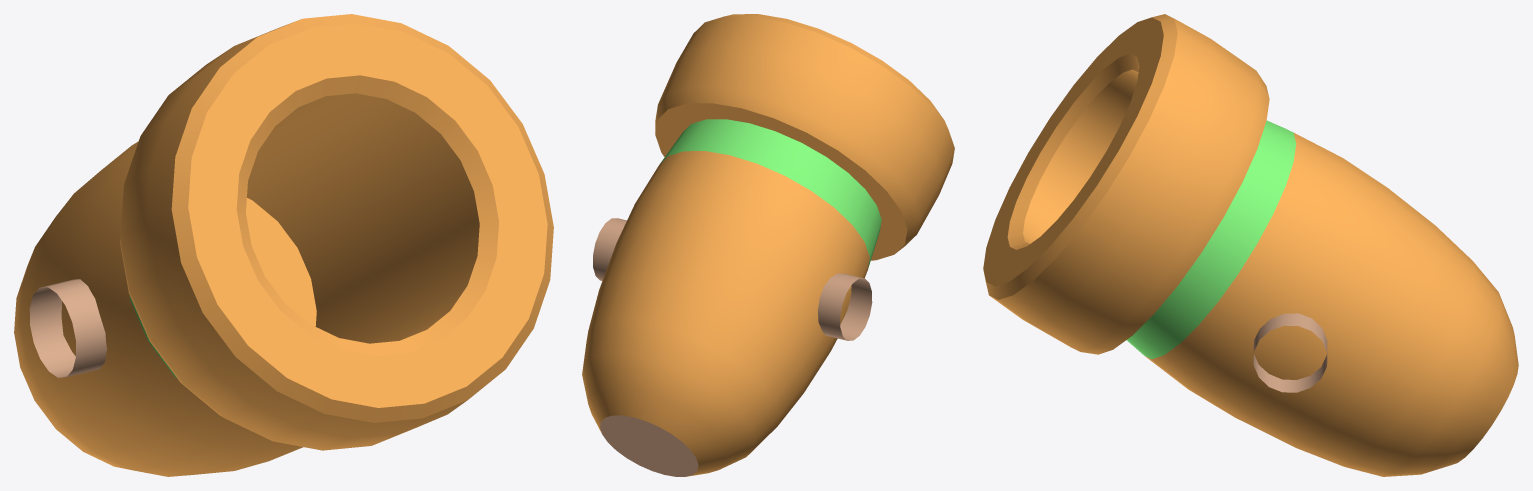
Rendered from canon_tubo.glb.
3 renders of one model, left to right at view 1: azimuth 30°, elevation 25°; view 2: azimuth 150°, elevation 25°; view 3: azimuth 270°, elevation 25°, orthographic. The views are drawn at different scales.
Parts seen in each view (by area): view 1: Canon_Tubo; view 2: Canon_Tubo; view 3: Canon_Tubo.
Boxes of the visible parts, bbox=[...] form: Canon_Tubo: bbox=[14, 14, 553, 476]; Canon_Tubo: bbox=[582, 14, 954, 476]; Canon_Tubo: bbox=[983, 14, 1518, 476].
Size of the model in its own units: 1.36 by 1.91 by 2.14.
